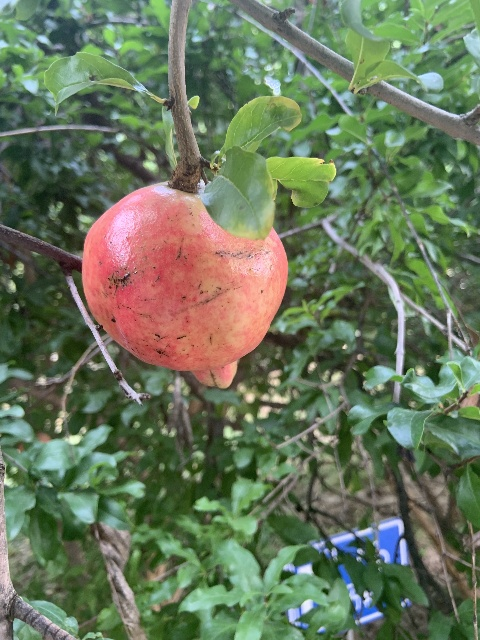ripe: (82, 179, 287, 388)
